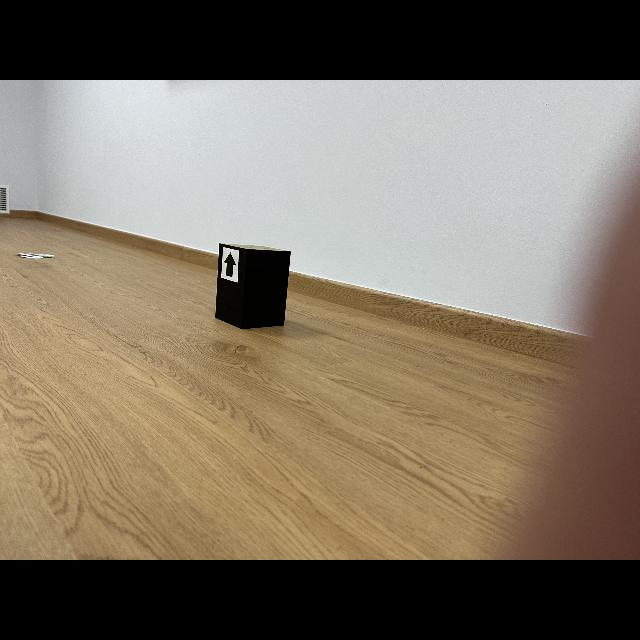UP: (224, 252, 237, 278)
